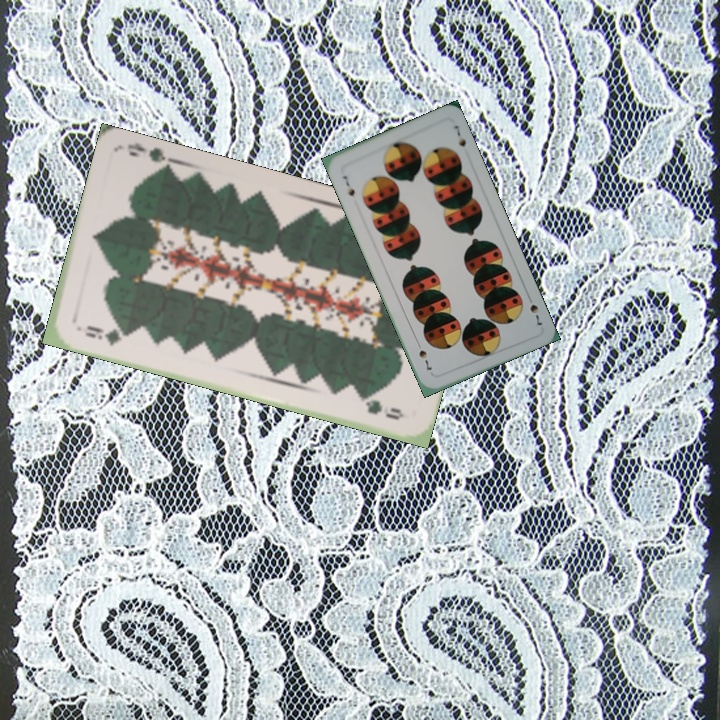G9: (81, 321, 131, 349)
S7: (526, 300, 545, 328), (338, 171, 357, 199)
